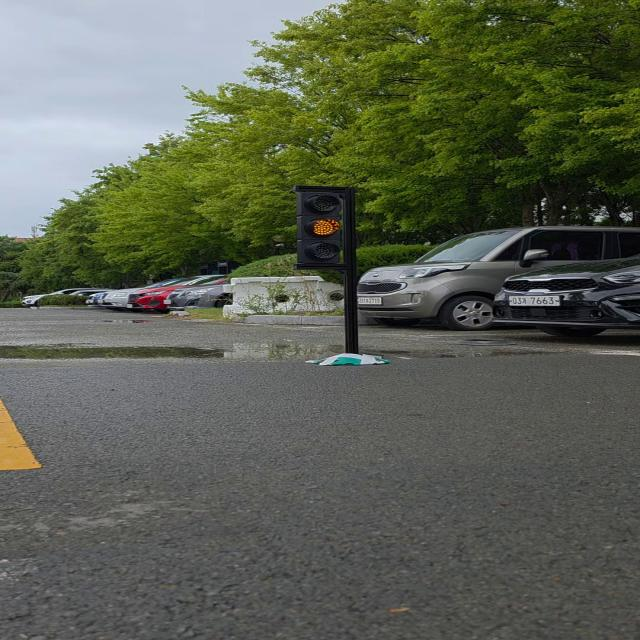yellow: (289, 182, 358, 271)
